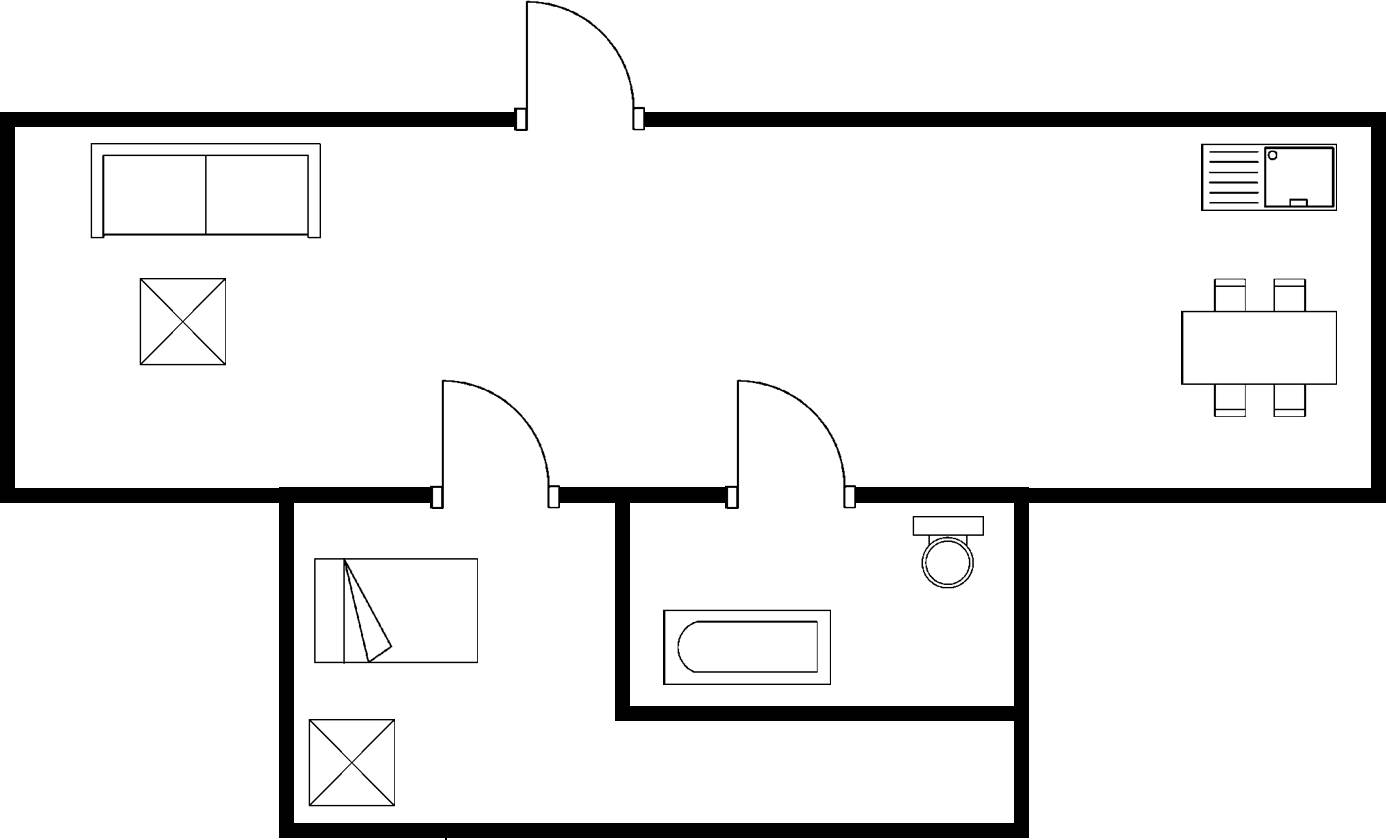bed: (308, 552, 483, 672)
coffee_table: (135, 272, 233, 374), (303, 712, 401, 812)
dining_table: (1173, 273, 1345, 423)
large_sink: (908, 511, 987, 591)
large_sofa: (82, 137, 331, 249)
sink: (1196, 139, 1342, 215)
tub: (658, 604, 835, 690)
